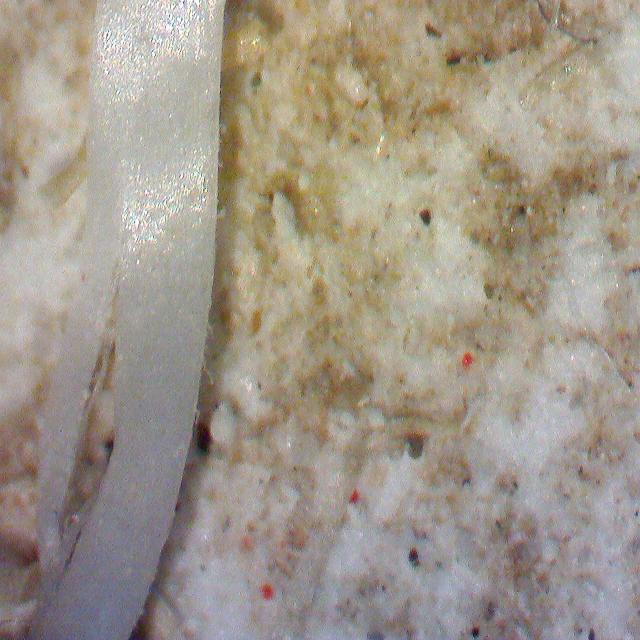microplastic: (30, 0, 226, 640)
